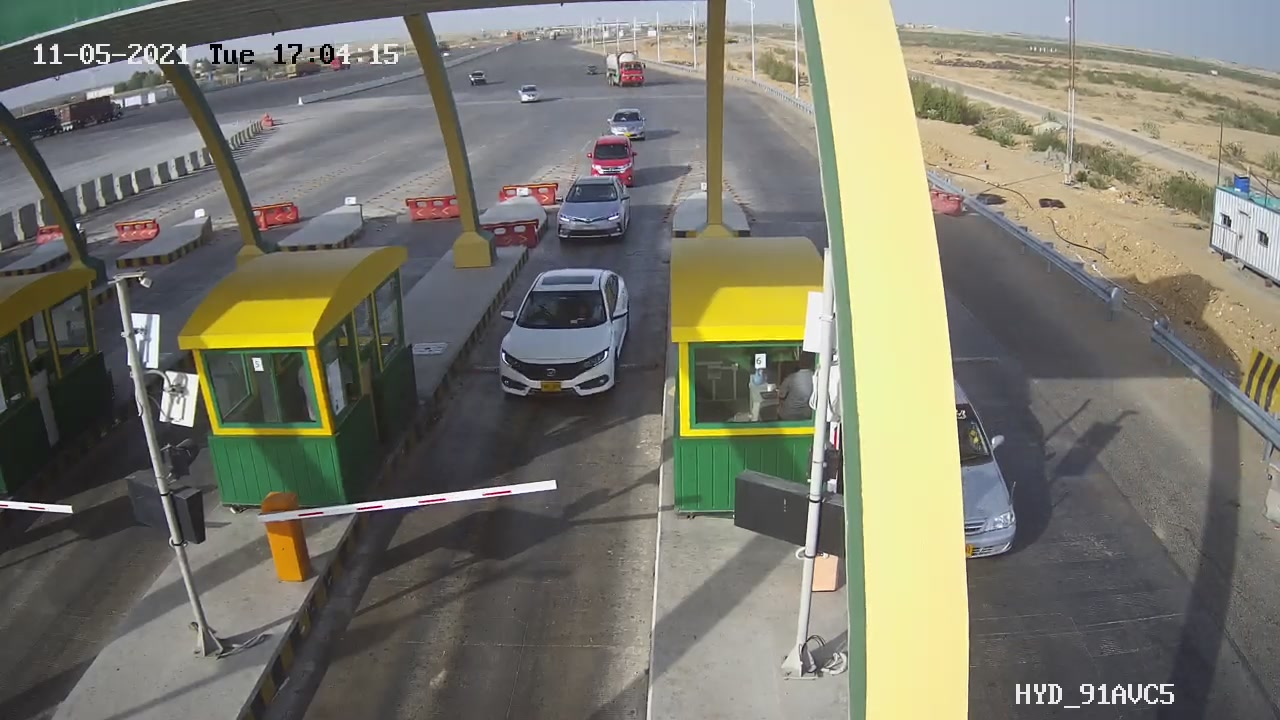F1: (481, 257, 653, 417), (537, 169, 655, 252)
